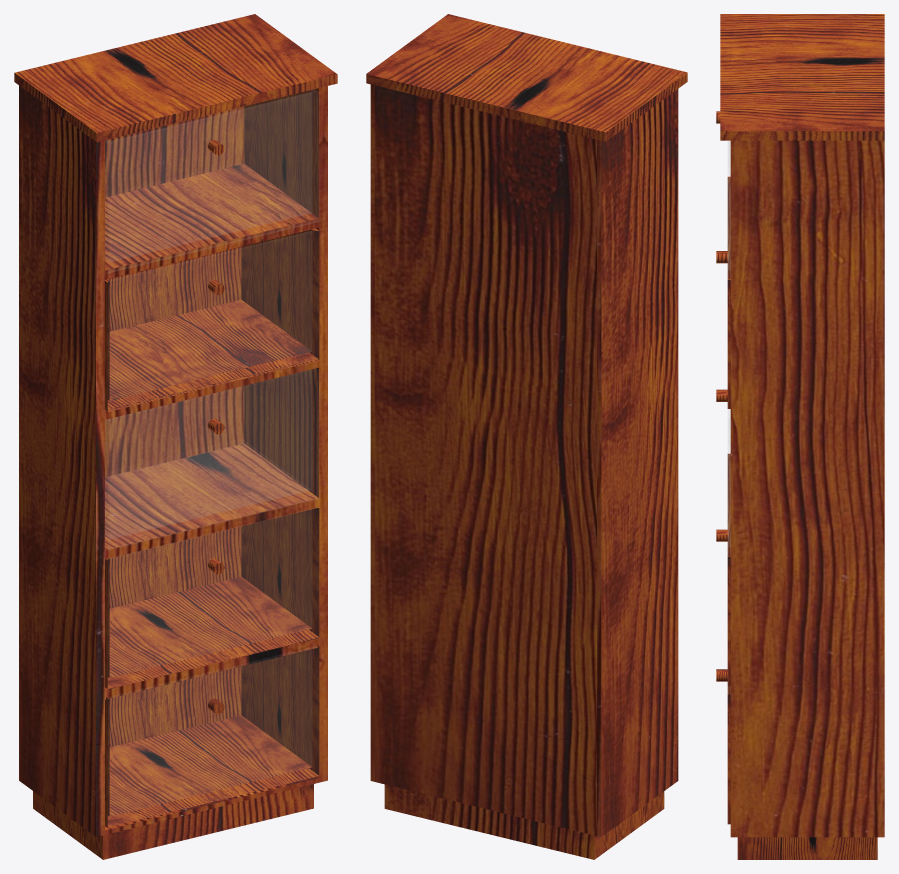
File: Drawer.fbx
3 renders of one model, left to right at view 1: azimuth 30°, elevation 25°; view 2: azimuth 150°, elevation 25°; view 3: azimuth 270°, elevation 25°, orthographic.
Visible parts, largest first — view 1: Mesh_1; view 2: Mesh_1; view 3: Mesh_1.
Boxes of the visible parts, x1,y1,x2,y2 form: Mesh_1: [14, 14, 337, 859]; Mesh_1: [366, 14, 687, 859]; Mesh_1: [716, 14, 884, 859].
Size of the model in its own units: 27 by 79 by 16.4.
Materials: 2 (1 with a texture image).
